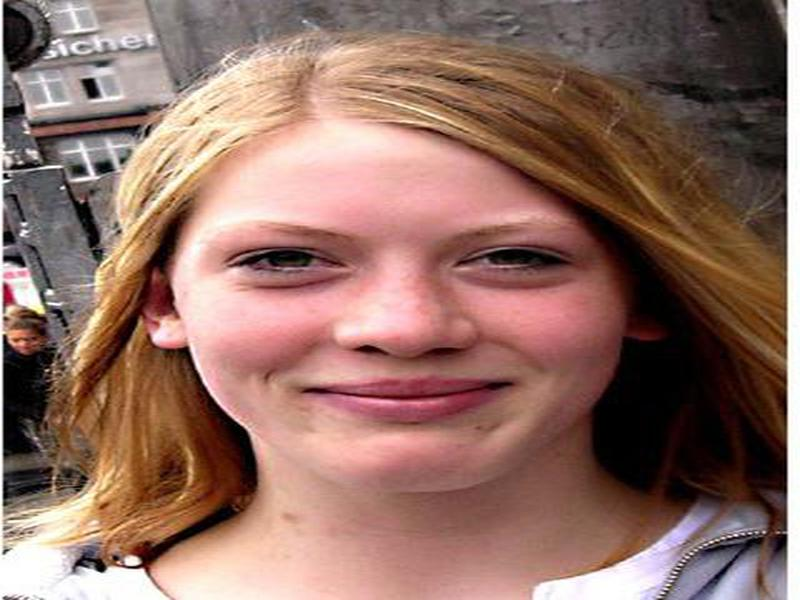without_mask: (172, 166, 626, 495)
